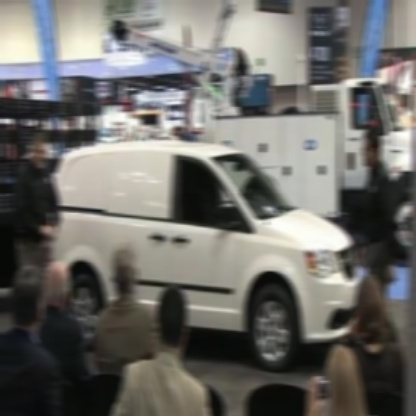Vehicle: (44, 138, 363, 348)
